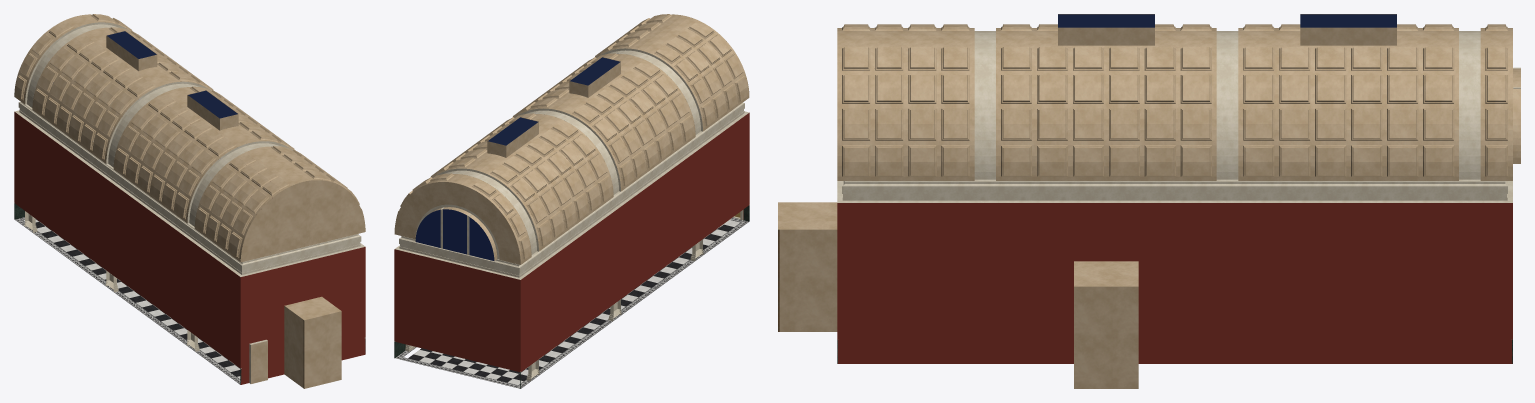
File: sala.glb
The picture shows the model from 3 angles, left to right: view 1: azimuth 30°, elevation 25°; view 2: azimuth 150°, elevation 25°; view 3: azimuth 270°, elevation 25°; orthographic projection. The views are drawn at different scales.
Visible parts, largest first — view 1: muros, boveda, suelo, emisivos; view 2: muros, boveda, suelo, emisivos; view 3: muros, boveda, emisivos.
Boxes of the visible parts, x1=… form: muros: x1=14, y1=22, x2=365, y2=388; boveda: x1=14, y1=14, x2=363, y2=261; suelo: x1=15, y1=217, x2=240, y2=384; emisivos: x1=53, y1=31, x2=237, y2=118; muros: x1=394, y1=41, x2=749, y2=388; boveda: x1=396, y1=14, x2=749, y2=264; suelo: x1=395, y1=217, x2=748, y2=388; emisivos: x1=415, y1=57, x2=620, y2=260; muros: x1=778, y1=67, x2=1520, y2=388; boveda: x1=837, y1=14, x2=1512, y2=180; emisivos: x1=1058, y1=14, x2=1396, y2=27.
Bounding box in the file's own units: 10.32 × 12.2 × 27.6.
20 materials, 8 textured.
